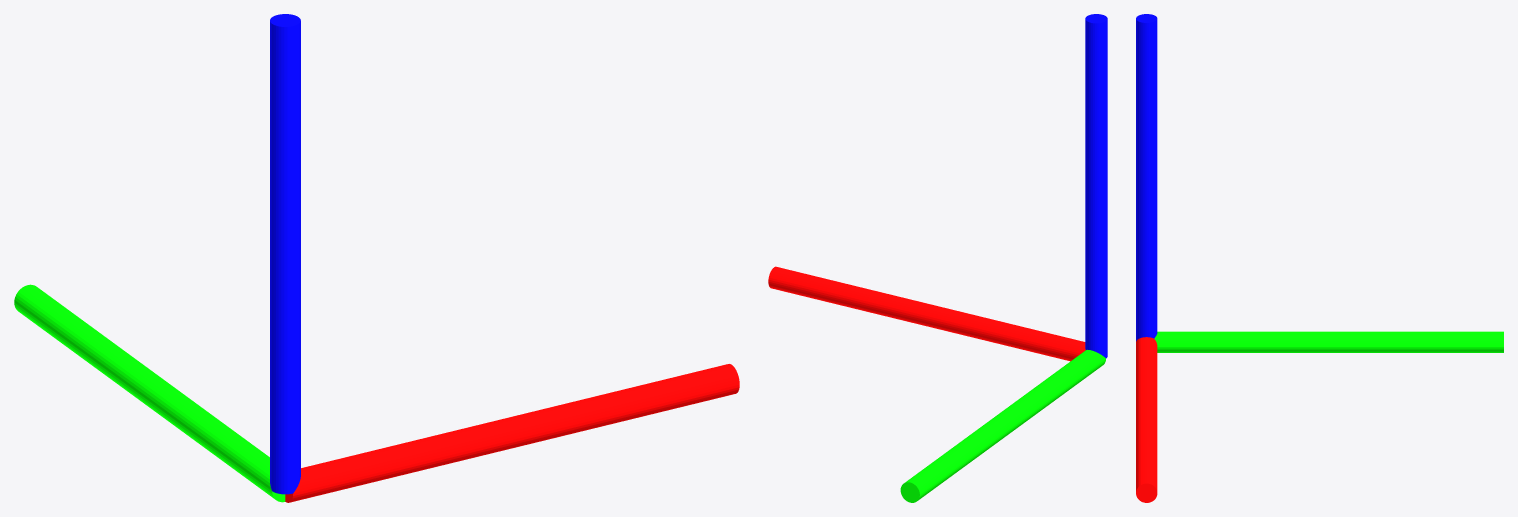
Rendered from AxesBlenderYup.gltf.
3 renders of one model, left to right at view 1: azimuth 30°, elevation 25°; view 2: azimuth 150°, elevation 25°; view 3: azimuth 270°, elevation 25°, orthographic. The views are drawn at different scales.
Parts seen in each view (by area): view 1: +Z; view 2: +Z; view 3: +Z.
Boxes of the visible parts, bbox=[...] form: +Z: bbox=[14, 14, 739, 502]; +Z: bbox=[768, 14, 1107, 502]; +Z: bbox=[1136, 14, 1503, 502].
Size of the model in its own units: 103000 by 103000 by 103000.
